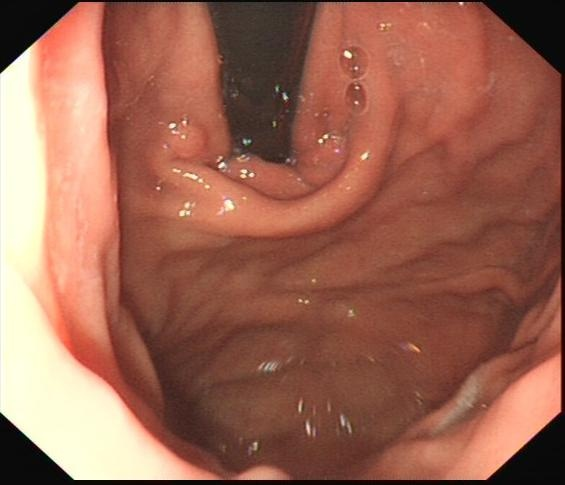Polyp: (154, 106, 221, 173)
